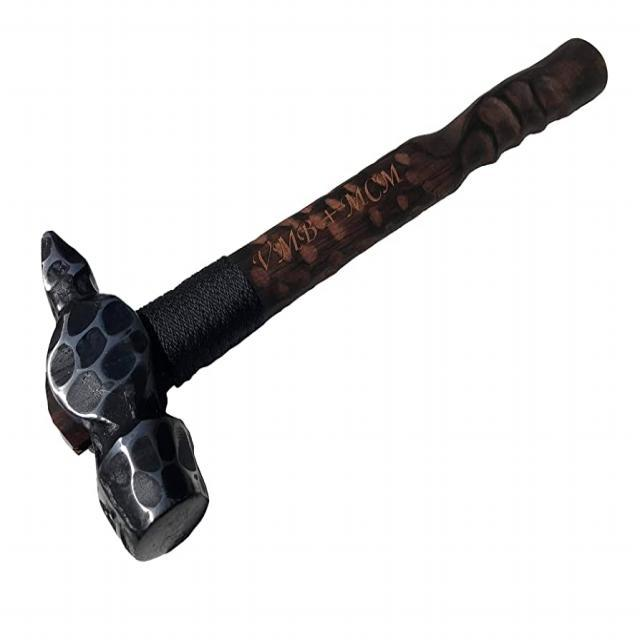hammer: (35, 32, 612, 566)
